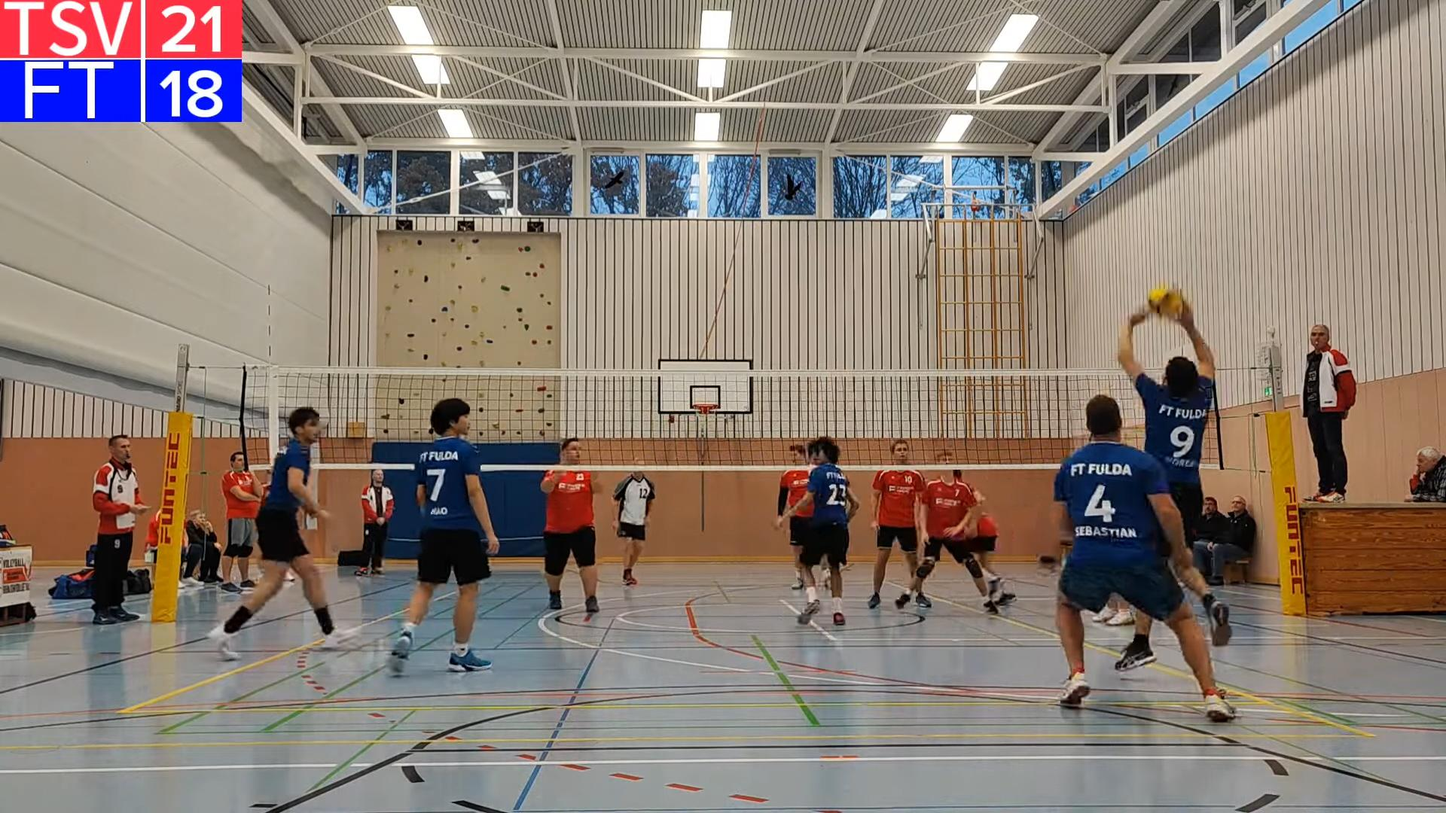ricezione: (1120, 303, 1231, 674)
